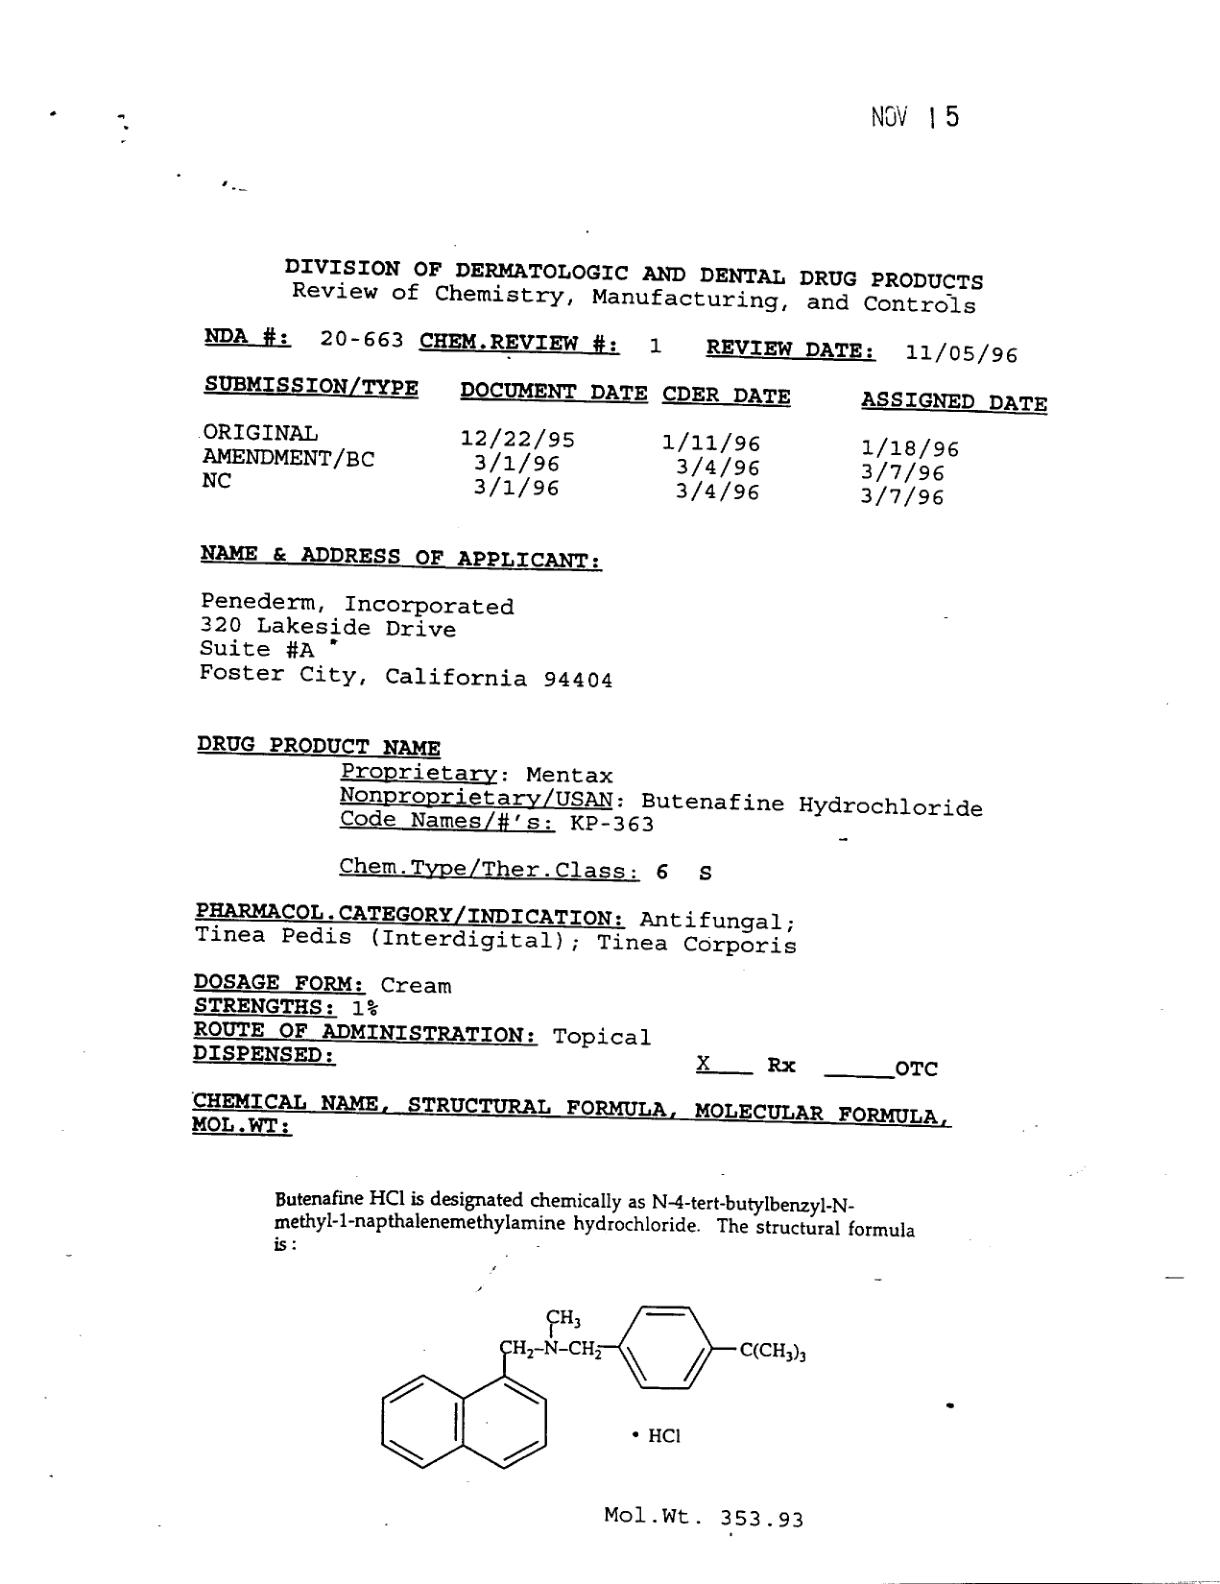nolines: (201, 370, 1050, 509)
